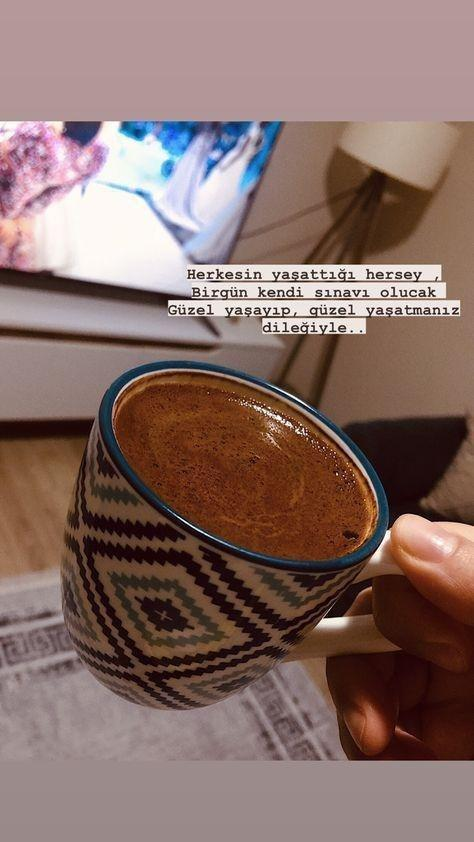cup-handle: (59, 361, 429, 711)
